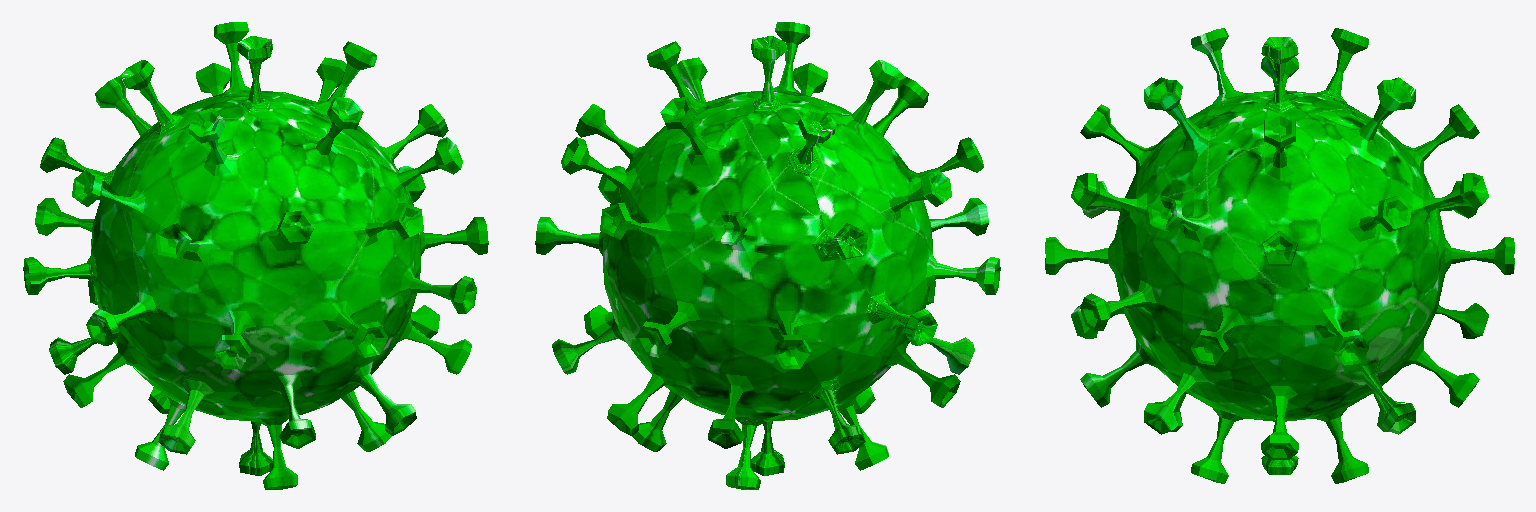
The picture shows the model from 3 angles: view 1: azimuth 30°, elevation 25°; view 2: azimuth 150°, elevation 25°; view 3: azimuth 270°, elevation 25°; orthographic projection.
Visible parts, largest first — view 1: GeoSphere001; view 2: GeoSphere001; view 3: GeoSphere001.
Part boxes in pixels (bbox=[...]): GeoSphere001: bbox=[23, 22, 488, 489]; GeoSphere001: bbox=[535, 22, 1000, 489]; GeoSphere001: bbox=[1045, 28, 1514, 483].
Size of the model in its own units: 3.37 by 3.47 by 3.47.
Materials: 1 (1 with a texture image).